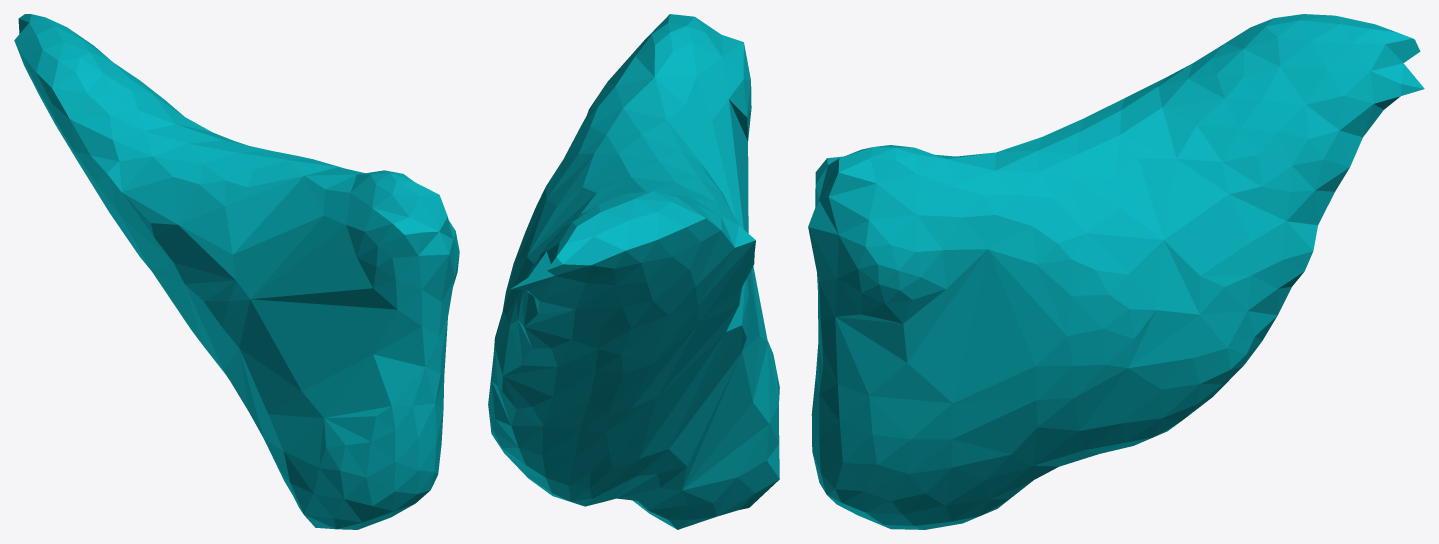
File: Model_10311_LH__Suprageniculate_thalamic_nucleus_(SG).obj
3 views of the same model, side by side, from view 1: azimuth 30°, elevation 25°; view 2: azimuth 150°, elevation 25°; view 3: azimuth 270°, elevation 25° (orthographic). The views are drawn at different scales.
Size of the model in its own units: 0.7561 by 1.15 by 1.45.
